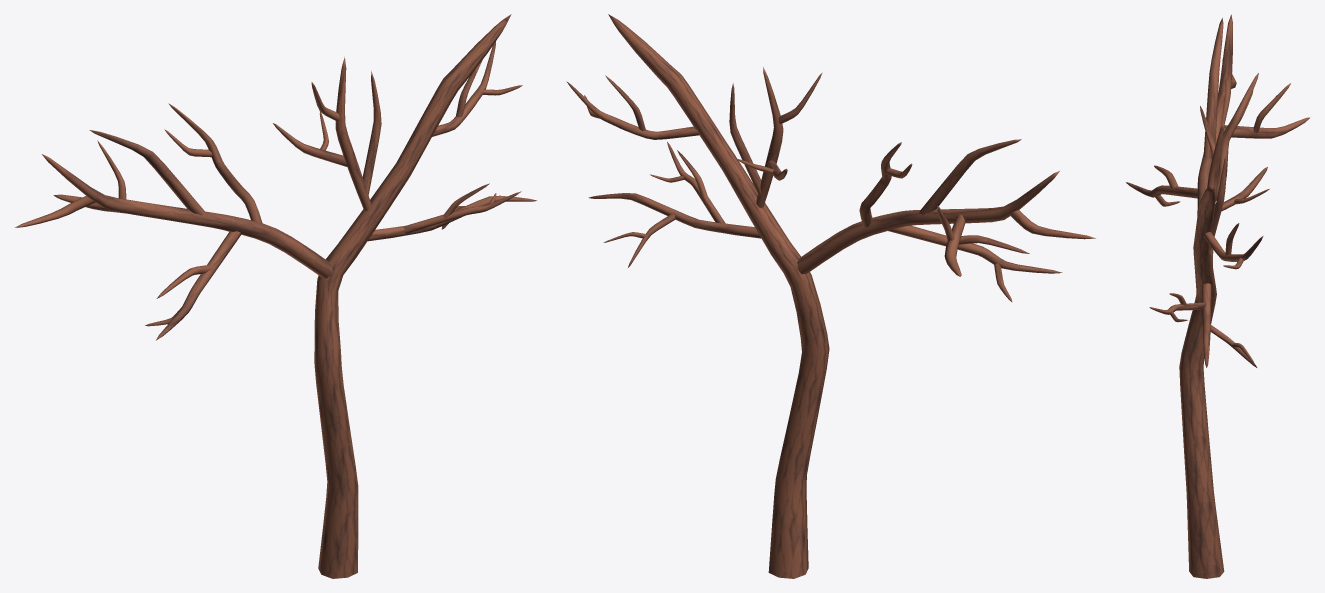
The model's file is DeadTree_4.glb.
3 views of the same model, side by side, from view 1: azimuth 30°, elevation 25°; view 2: azimuth 150°, elevation 25°; view 3: azimuth 270°, elevation 25° (orthographic). The views are drawn at different scales.
Visible parts, largest first — view 1: DeadTree_4; view 2: DeadTree_4; view 3: DeadTree_4.
Part boxes in pixels (x1=…): DeadTree_4: x1=15, y1=14, x2=536, y2=578; DeadTree_4: x1=566, y1=14, x2=1095, y2=578; DeadTree_4: x1=1126, y1=14, x2=1309, y2=578.
Bounding box in the file's own units: 4.85 × 4.61 × 1.67.
Materials: 1 (1 with a texture image).
